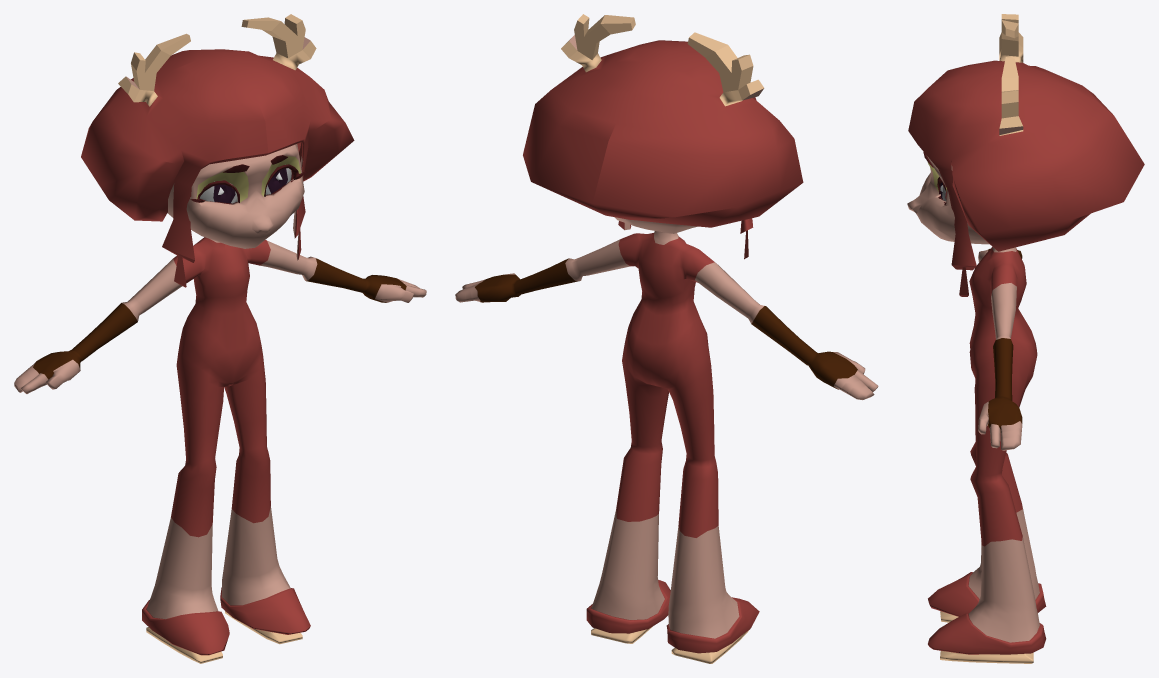
File: Mesh_Aoife.fbx
3 renders of one model, left to right at view 1: azimuth 30°, elevation 25°; view 2: azimuth 150°, elevation 25°; view 3: azimuth 270°, elevation 25°, orthographic. The views are drawn at different scales.
Parts seen in each view (by area): view 1: aoife_geo; view 2: aoife_geo; view 3: aoife_geo.
Boxes of the visible parts, x1,y1,x2,y2 form: aoife_geo: (14, 14, 426, 663); aoife_geo: (455, 14, 878, 663); aoife_geo: (907, 14, 1144, 663).
Bounding box in the file's own units: 71.22 × 101 × 36.64.
